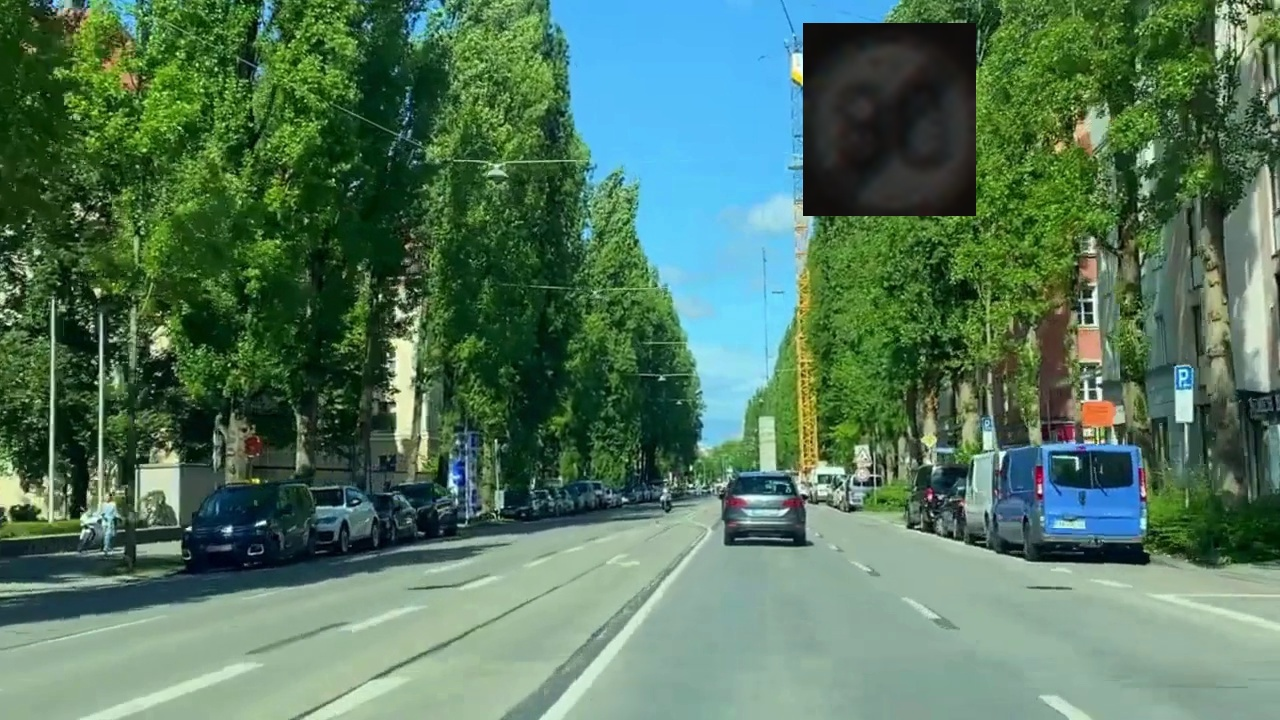End Speed 80: (803, 23, 976, 216)
